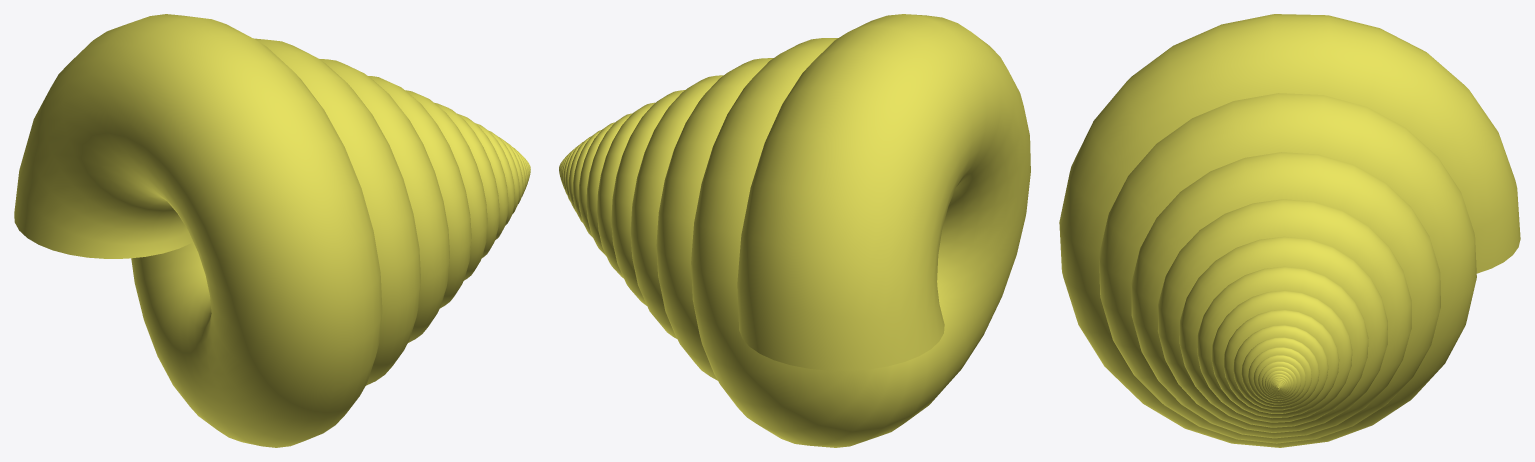
3 renders of one model, left to right at view 1: azimuth 30°, elevation 25°; view 2: azimuth 150°, elevation 25°; view 3: azimuth 270°, elevation 25°, orthographic. The views are drawn at different scales.
Parts seen in each view (by area): view 1: t9; view 2: t9; view 3: t9.
Part boxes in pixels (x1,y1,x2,y2): t9: [14, 14, 530, 447]; t9: [559, 14, 1030, 447]; t9: [1059, 14, 1520, 447].
Size of the model in its own units: 500 by 445 by 466.
